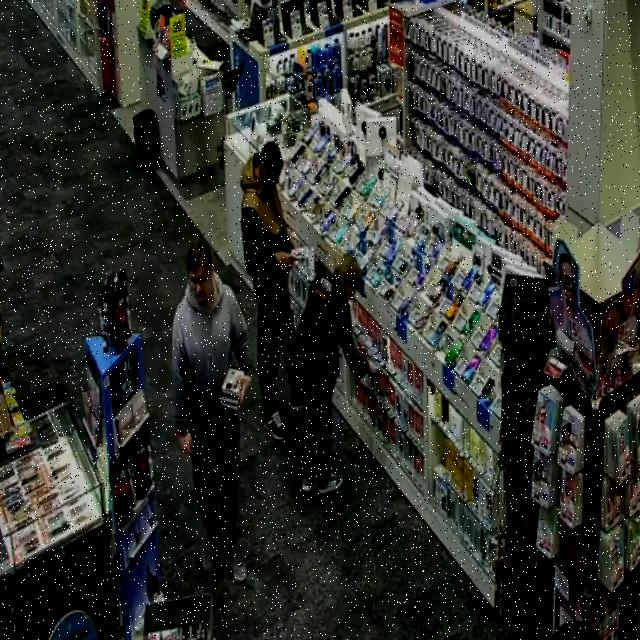article: (220, 368, 244, 395), (291, 247, 308, 259), (221, 394, 239, 405), (221, 401, 238, 412)
hands: (275, 252, 294, 272), (179, 432, 193, 455), (240, 376, 251, 404), (369, 361, 379, 373)
person: (173, 241, 251, 581), (291, 255, 372, 493), (242, 143, 303, 440)
